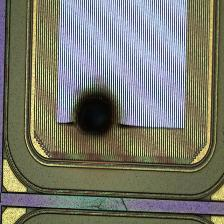PARTICLE: (67, 83, 127, 143)
